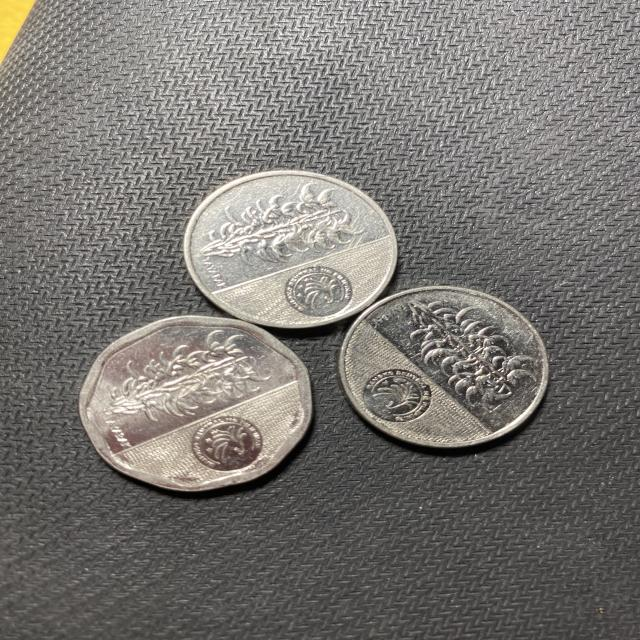5_New_Back: (104, 334, 274, 421), (210, 175, 358, 273), (412, 304, 532, 404)
